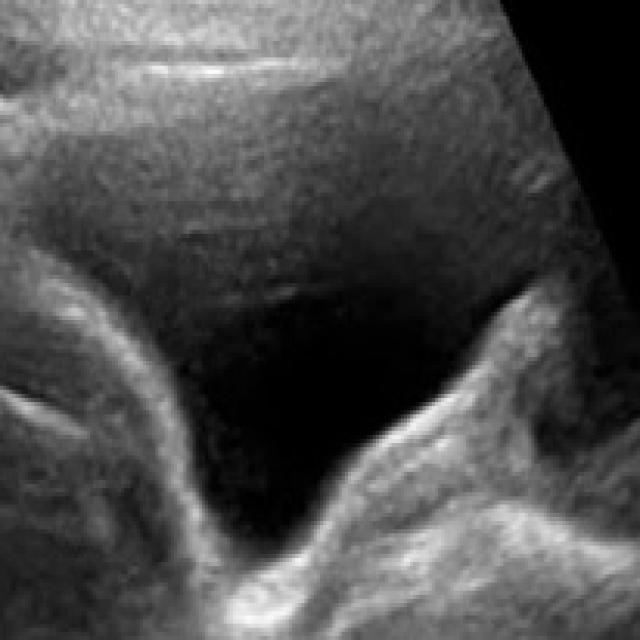bladder: (7, 23, 582, 597)
